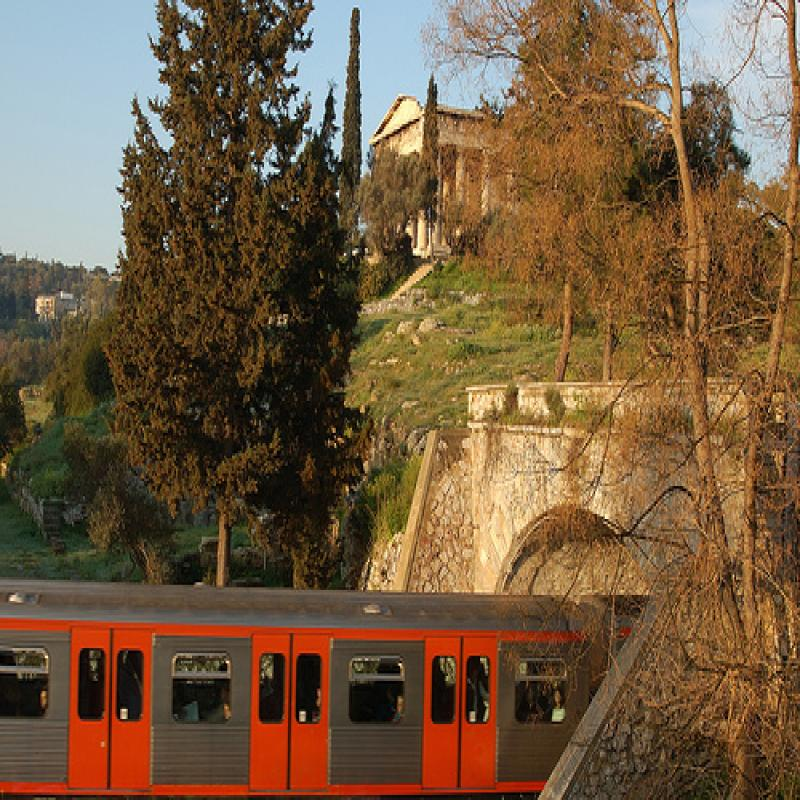train: (3, 573, 659, 800)
